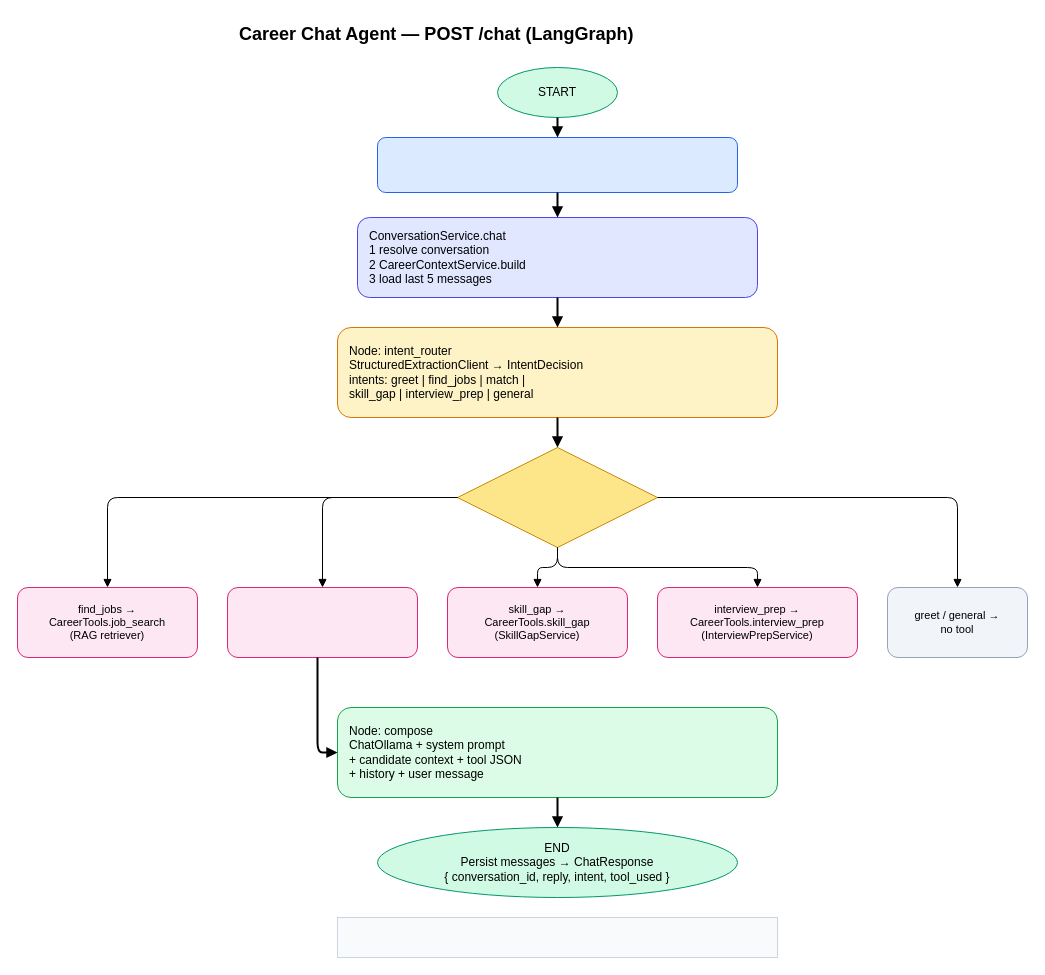
Image size: 1045x975. Some labels were removed from this diagram. The shapes that lost their labels are listed below. From the top down, each one's centre as x and y in pixels, then its label:
At (557,164): "Frontend Chat.tsx POST /chat { message, conversation_id? }".
At (557,497): "Node: dispatch (Python routing)".
At (322,622): "match → CareerTools.match_jobs (MatchingOrchestrator)".
At (557,937): "All tool paths merge into compose with ToolResult JSON (data or soft error)".
